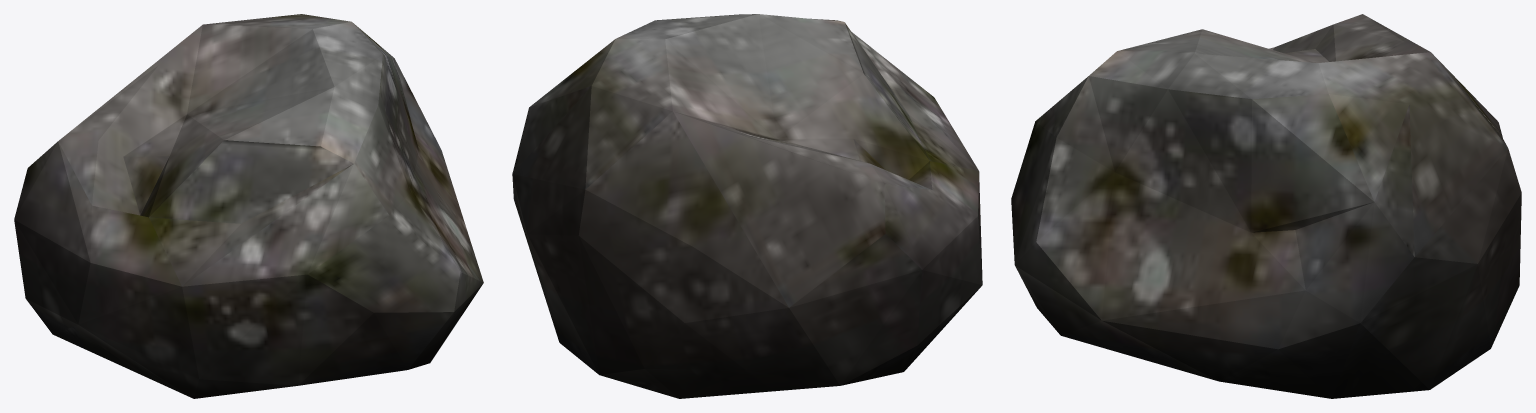
The model's file is ga3_rock_lod0.glb.
3 views of the same model, side by side, from view 1: azimuth 30°, elevation 25°; view 2: azimuth 150°, elevation 25°; view 3: azimuth 270°, elevation 25° (orthographic). The views are drawn at different scales.
Visible parts, largest first — view 1: ga3_rock_lod0; view 2: ga3_rock_lod0; view 3: ga3_rock_lod0.
Boxes of the visible parts, x1,y1,x2,y2 form: ga3_rock_lod0: (14,14,483,398); ga3_rock_lod0: (512,14,982,398); ga3_rock_lod0: (1011,14,1521,398).
Size of the model in its own units: 0.9975 by 0.6615 by 0.9955.
1 material, 1 textured.
